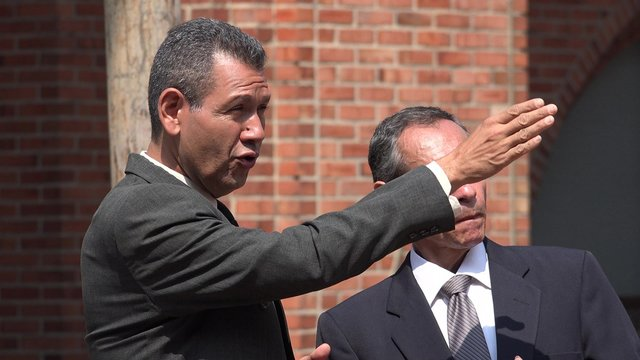pointing_gesture: (448, 98, 559, 184)
